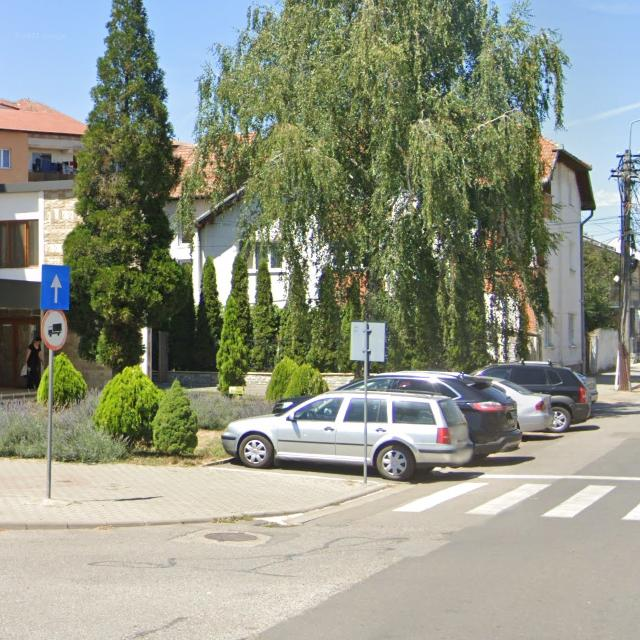forb_trucks: (41, 309, 68, 352)
info_one_way_traffic: (38, 264, 72, 311)
